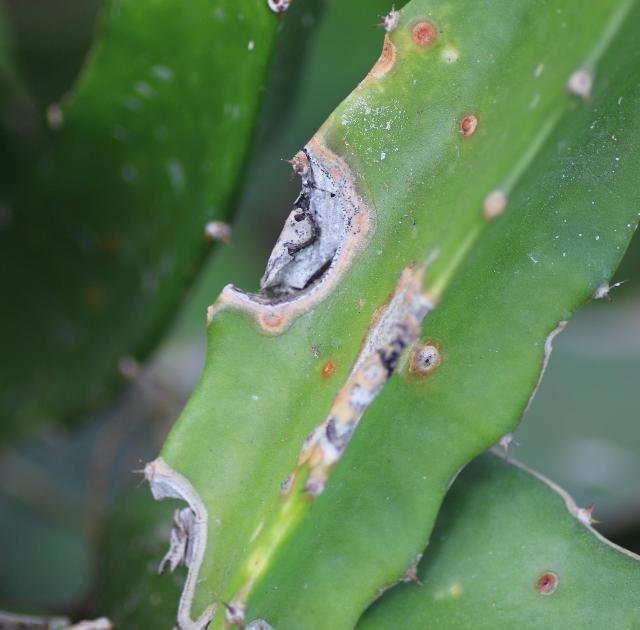stemcanker: (209, 130, 379, 333), (300, 246, 441, 477), (143, 454, 225, 630), (360, 3, 449, 94), (527, 566, 564, 600), (452, 108, 484, 143)
